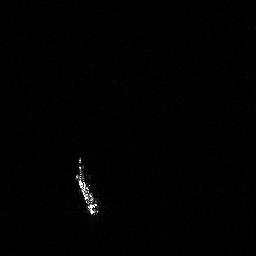ship: (71, 153, 105, 218)
